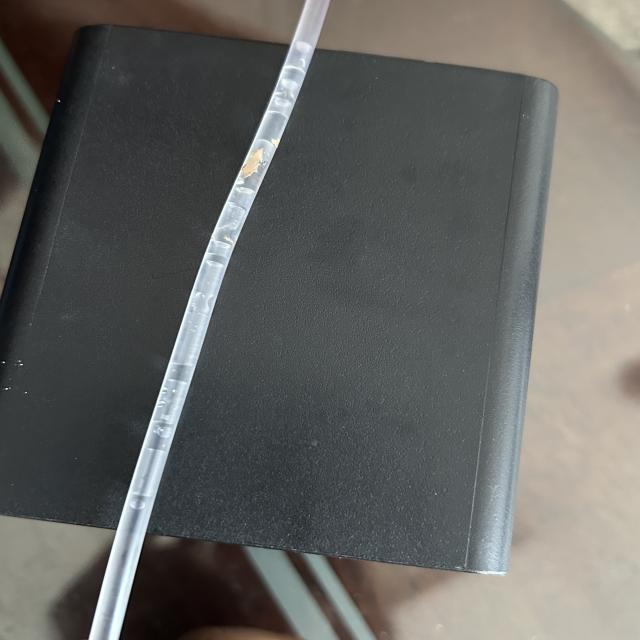bubble: (171, 257, 227, 376), (126, 440, 173, 498), (284, 33, 316, 71), (200, 230, 240, 258), (272, 70, 307, 98), (263, 92, 291, 114), (119, 497, 147, 516)
